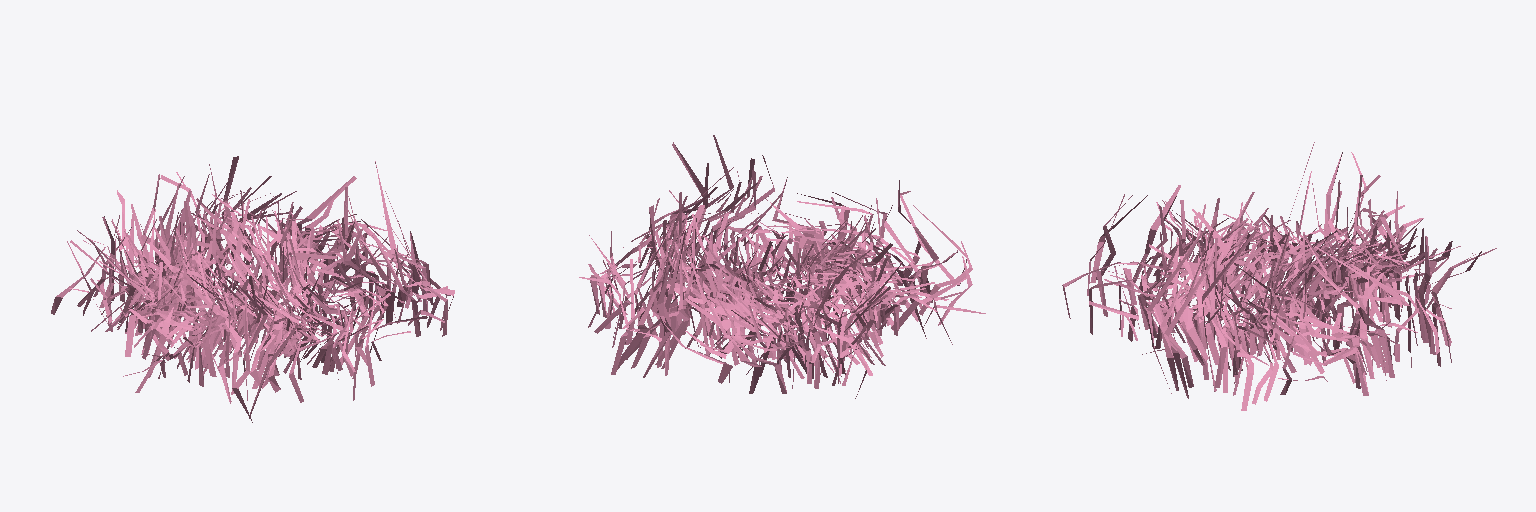
3 views of the same model, side by side, from view 1: azimuth 30°, elevation 25°; view 2: azimuth 150°, elevation 25°; view 3: azimuth 270°, elevation 25° (orthographic).
Visible parts, largest first — view 1: AM124_109_small_v1; view 2: AM124_109_small_v1; view 3: AM124_109_small_v1.
Part boxes in pixels (bbox=[...]): AM124_109_small_v1: bbox=[51, 156, 454, 422]; AM124_109_small_v1: bbox=[579, 135, 985, 398]; AM124_109_small_v1: bbox=[1062, 142, 1496, 410].
Bounding box in the file's own units: 182 × 78.09 × 195.